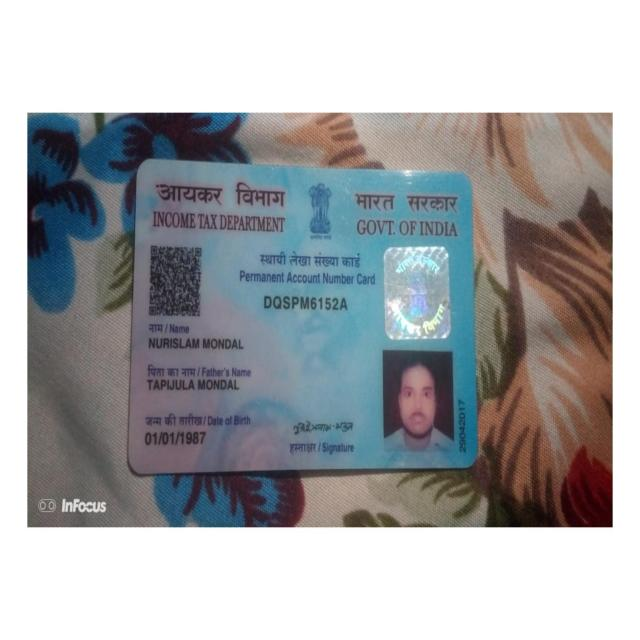pan_card: (131, 166, 473, 466)
